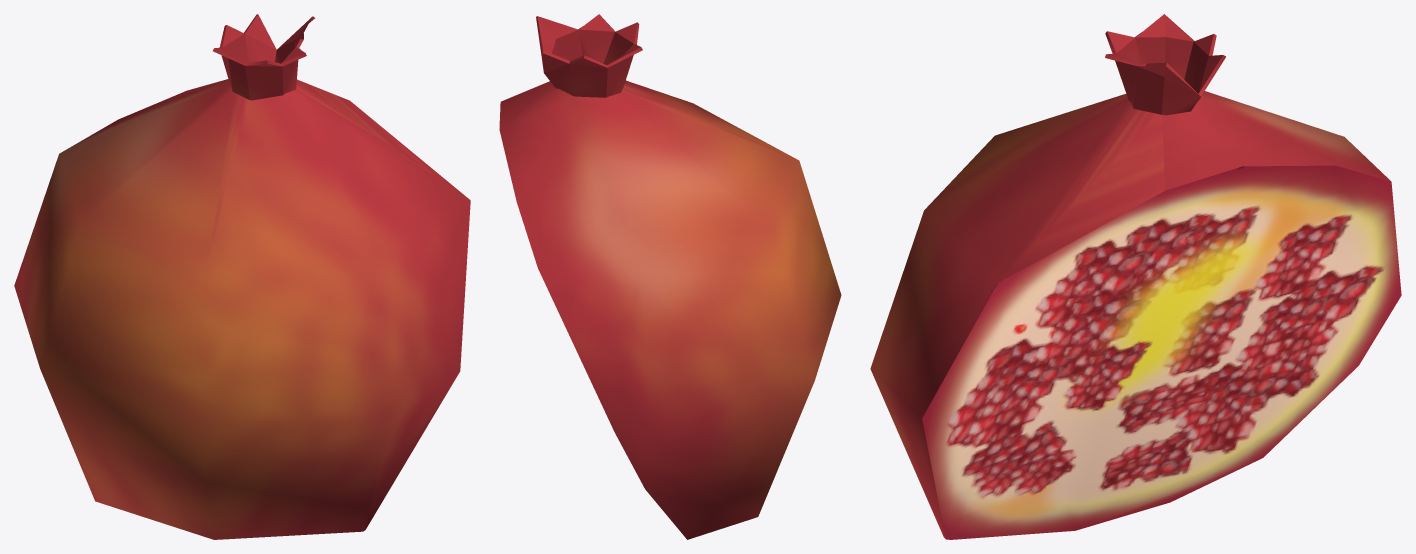
File: pomegranateS1.FBX
The picture shows the model from 3 angles, left to right: view 1: azimuth 30°, elevation 25°; view 2: azimuth 150°, elevation 25°; view 3: azimuth 270°, elevation 25°; orthographic projection. The views are drawn at different scales.
Visible parts, largest first — view 1: Pomegranate Slice1; view 2: Pomegranate Slice1; view 3: Pomegranate Slice1.
Boxes of the visible parts, bbox=[...] form: Pomegranate Slice1: bbox=[14, 14, 470, 539]; Pomegranate Slice1: bbox=[499, 14, 841, 539]; Pomegranate Slice1: bbox=[870, 14, 1401, 539].
Bounding box in the file's own units: 6.81 × 8.47 × 7.62.
